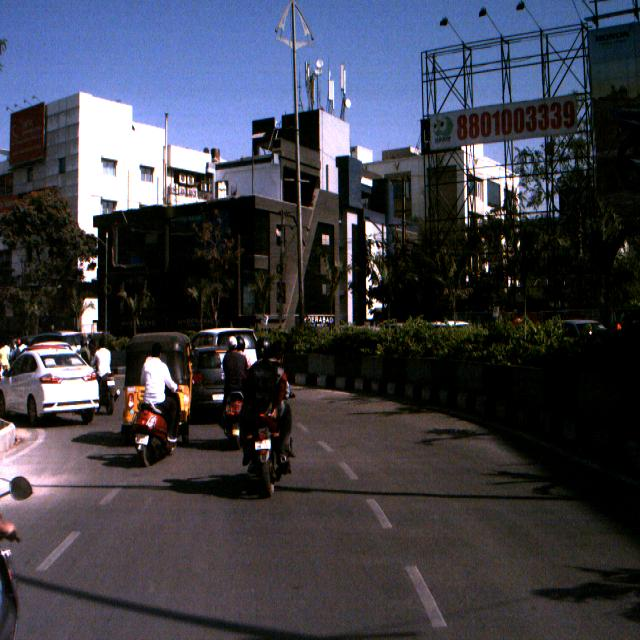car ahead at: (0, 342, 100, 436)
motorcycle ahead at: (236, 404, 296, 497), (128, 407, 187, 469)
